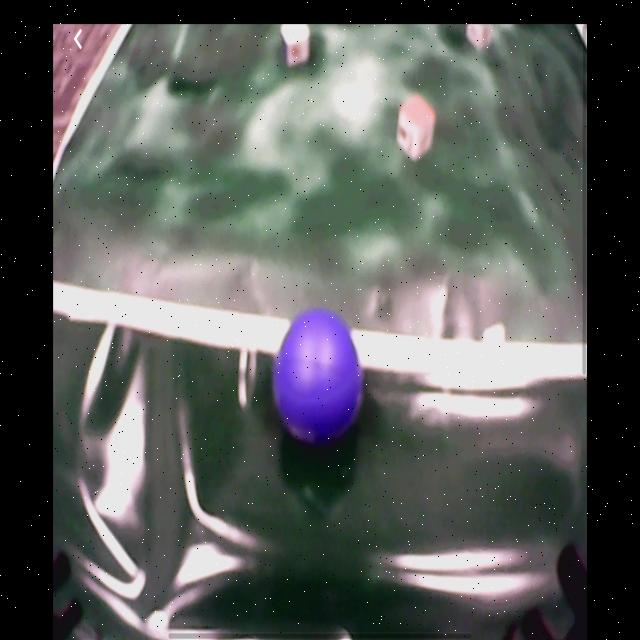ball: (274, 309, 365, 440)
